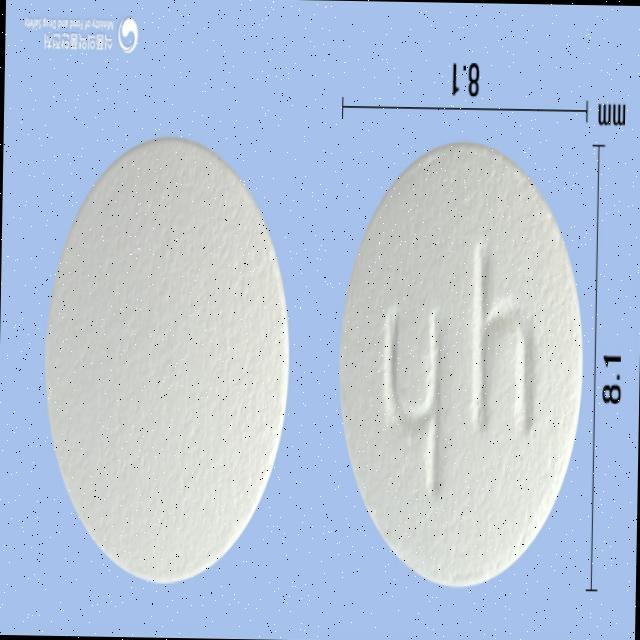Levomicin: (39, 131, 294, 587), (332, 140, 586, 592)
